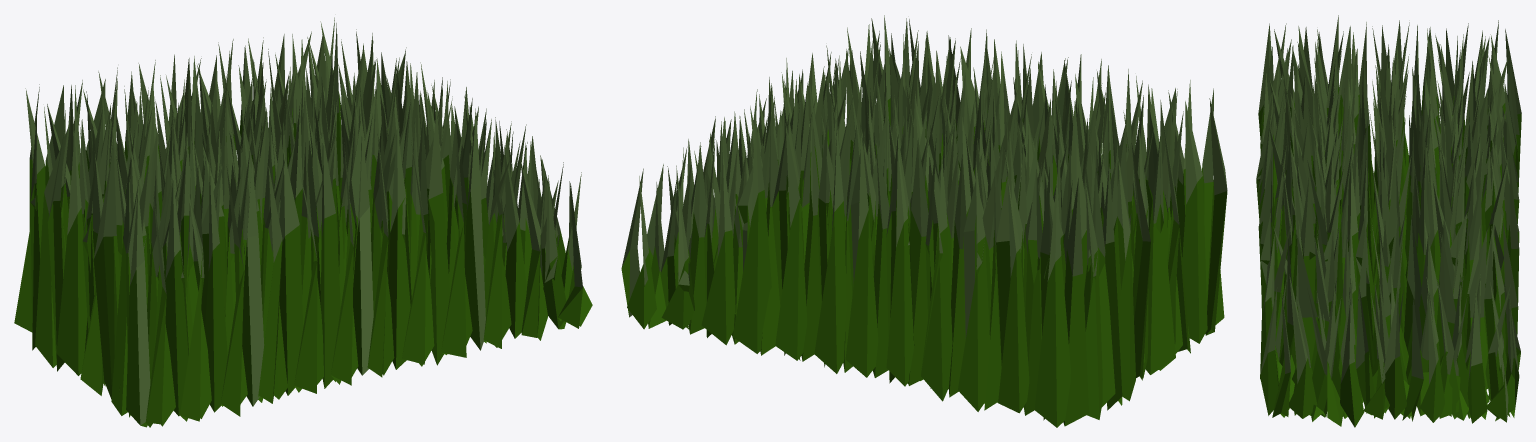
File: GrassStaggered.fbx
The picture shows the model from 3 angles, left to right: view 1: azimuth 30°, elevation 25°; view 2: azimuth 150°, elevation 25°; view 3: azimuth 270°, elevation 25°; orthographic projection. The views are drawn at different scales.
Parts seen in each view (by area): view 1: Cube; view 2: Cube; view 3: Cube.
Boxes of the visible parts, x1,y1,x2,y2 form: Cube: (14,17,592,427); Cube: (621,15,1227,427); Cube: (1256,15,1521,427).
Bounding box in the file's own units: 2554 × 1364 × 1416.
